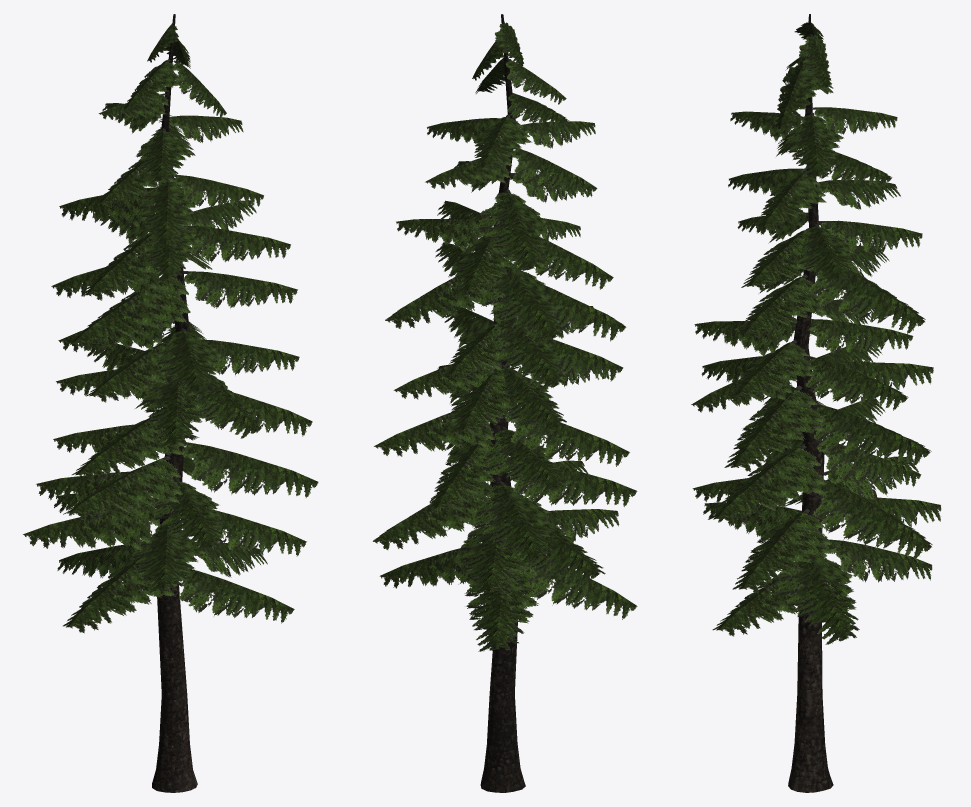
File: tree_3.obj
3 renders of one model, left to right at view 1: azimuth 30°, elevation 25°; view 2: azimuth 150°, elevation 25°; view 3: azimuth 270°, elevation 25°, orthographic.
Visible parts, largest first — view 1: tree_3; view 2: tree_3; view 3: tree_3.
Part boxes in pixels (bbox=[...]): tree_3: bbox=[23, 14, 318, 792]; tree_3: bbox=[373, 14, 637, 792]; tree_3: bbox=[691, 14, 941, 792].
Size of the model in its own units: 2.16 by 6.02 by 1.96.
